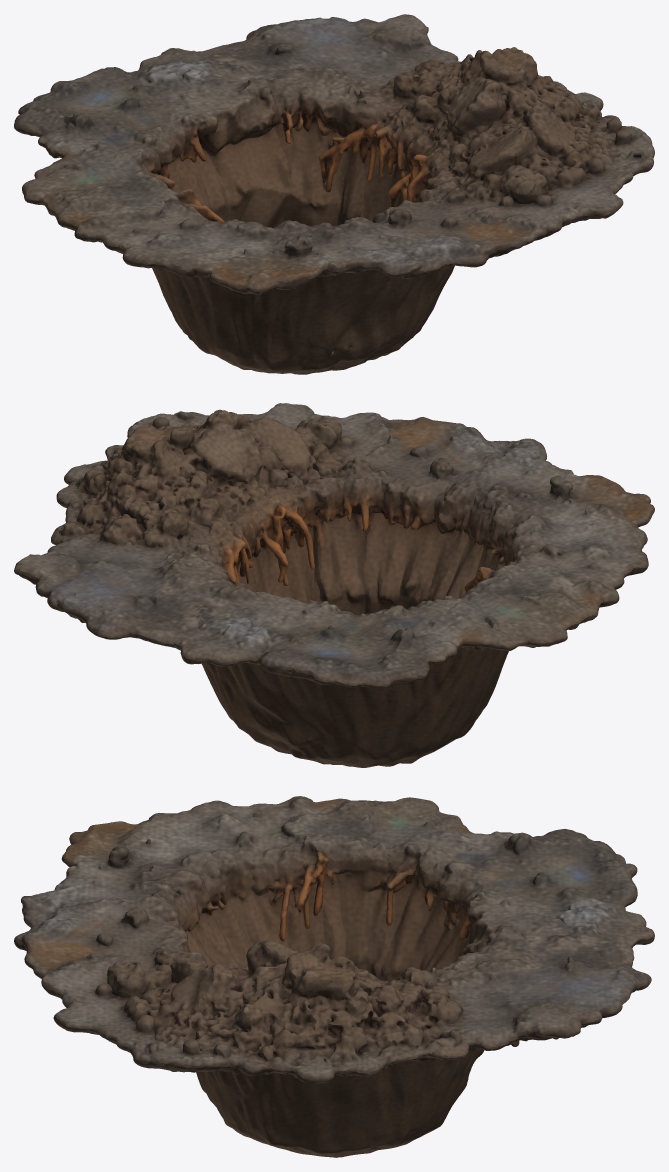
The model's file is hole.glb.
3 views of the same model, one above another, from view 1: azimuth 30°, elevation 25°; view 2: azimuth 150°, elevation 25°; view 3: azimuth 270°, elevation 25° (orthographic). The views are drawn at different scales.
Parts seen in each view (by area): view 1: world; view 2: world; view 3: world.
Boxes of the visible parts, bbox=[...] form: world: bbox=[14, 14, 654, 374]; world: bbox=[14, 403, 654, 767]; world: bbox=[14, 796, 654, 1157].
Size of the model in its own units: 1.2 by 0.5579 by 1.16.
1 material, 1 textured.
